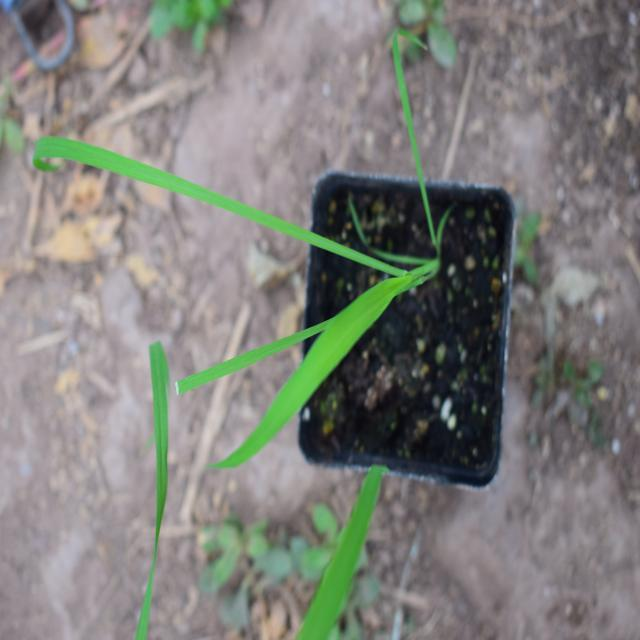barnyard_grass: (0, 96, 456, 469)
